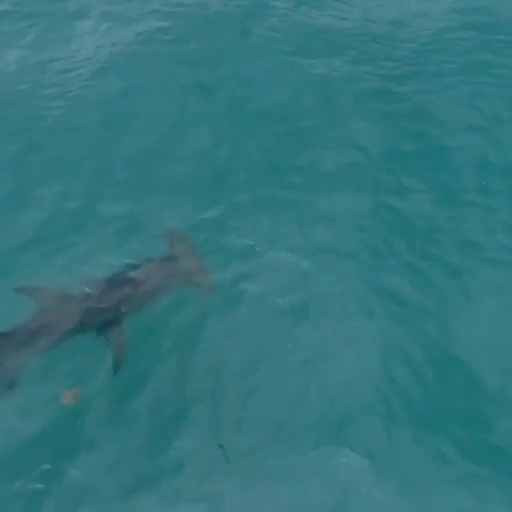shark: (3, 225, 219, 393)
